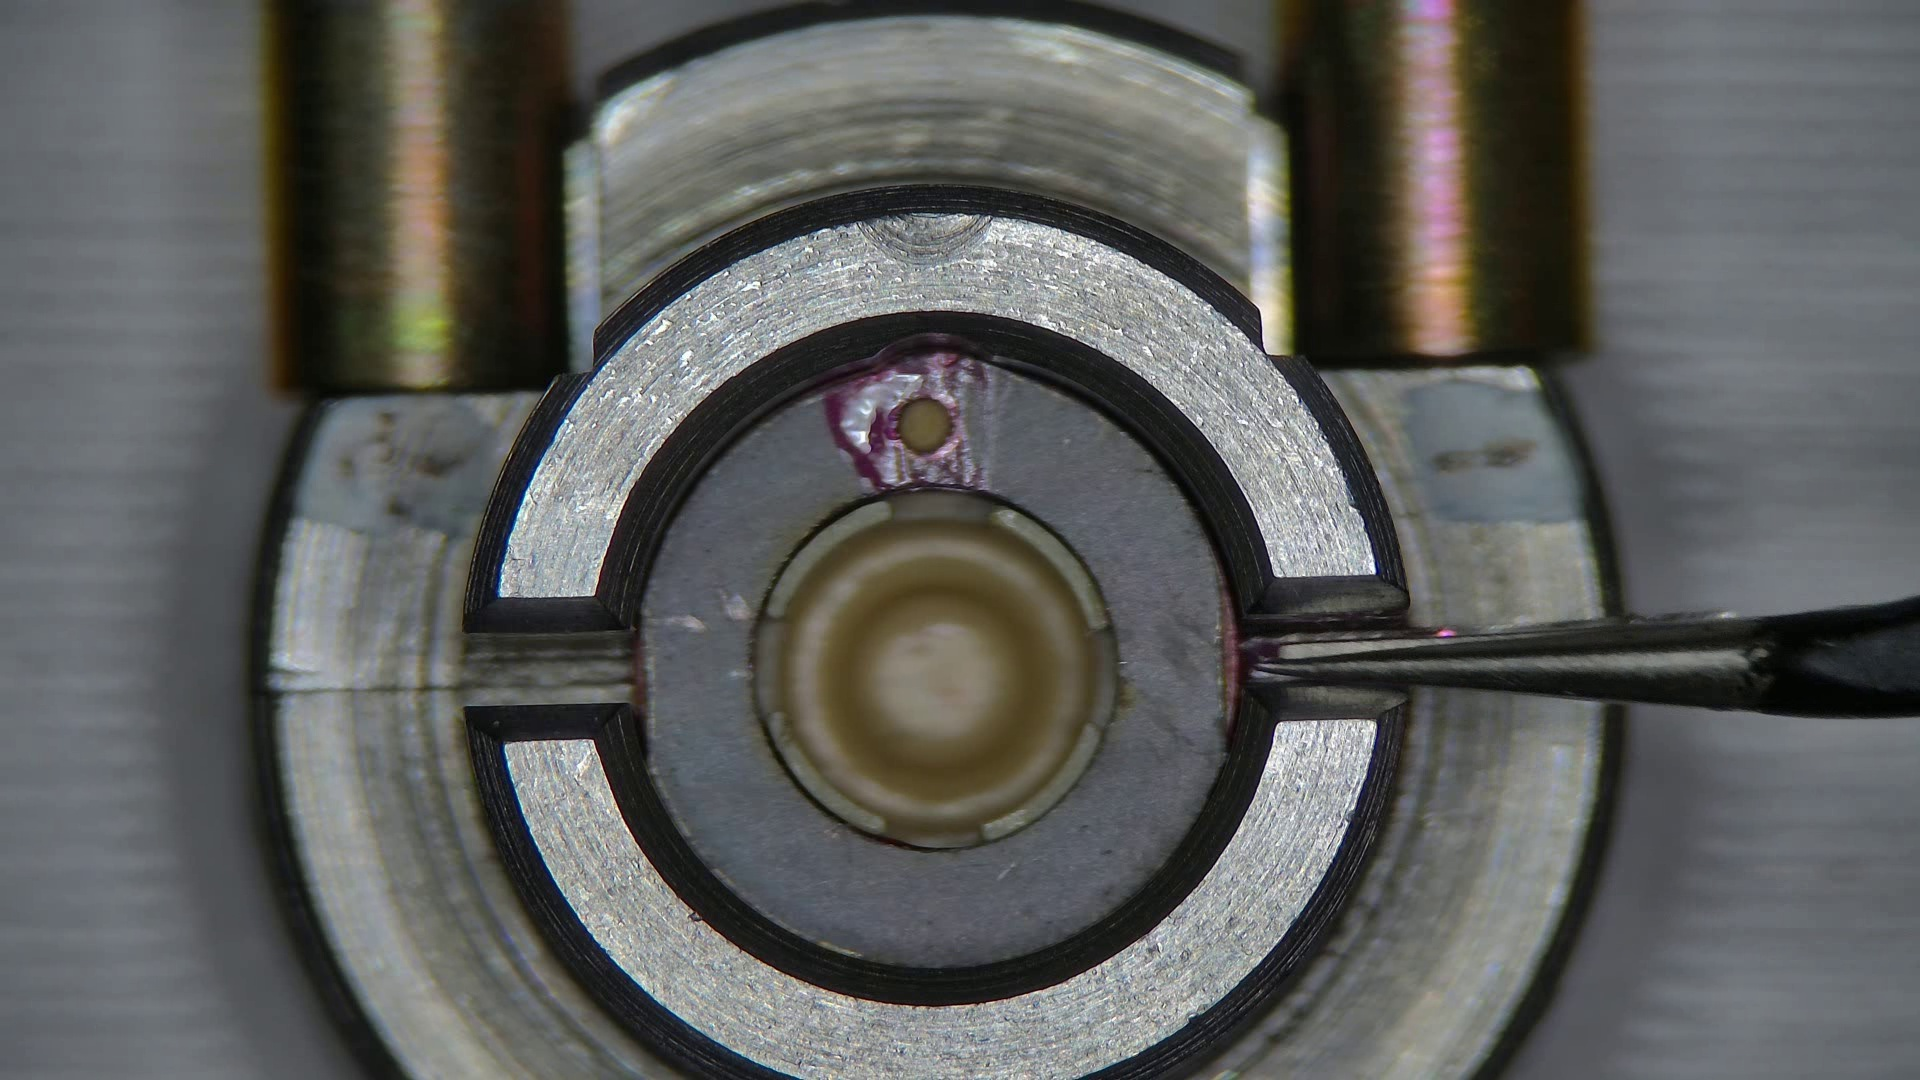YellowOring: (641, 353, 1226, 971)
